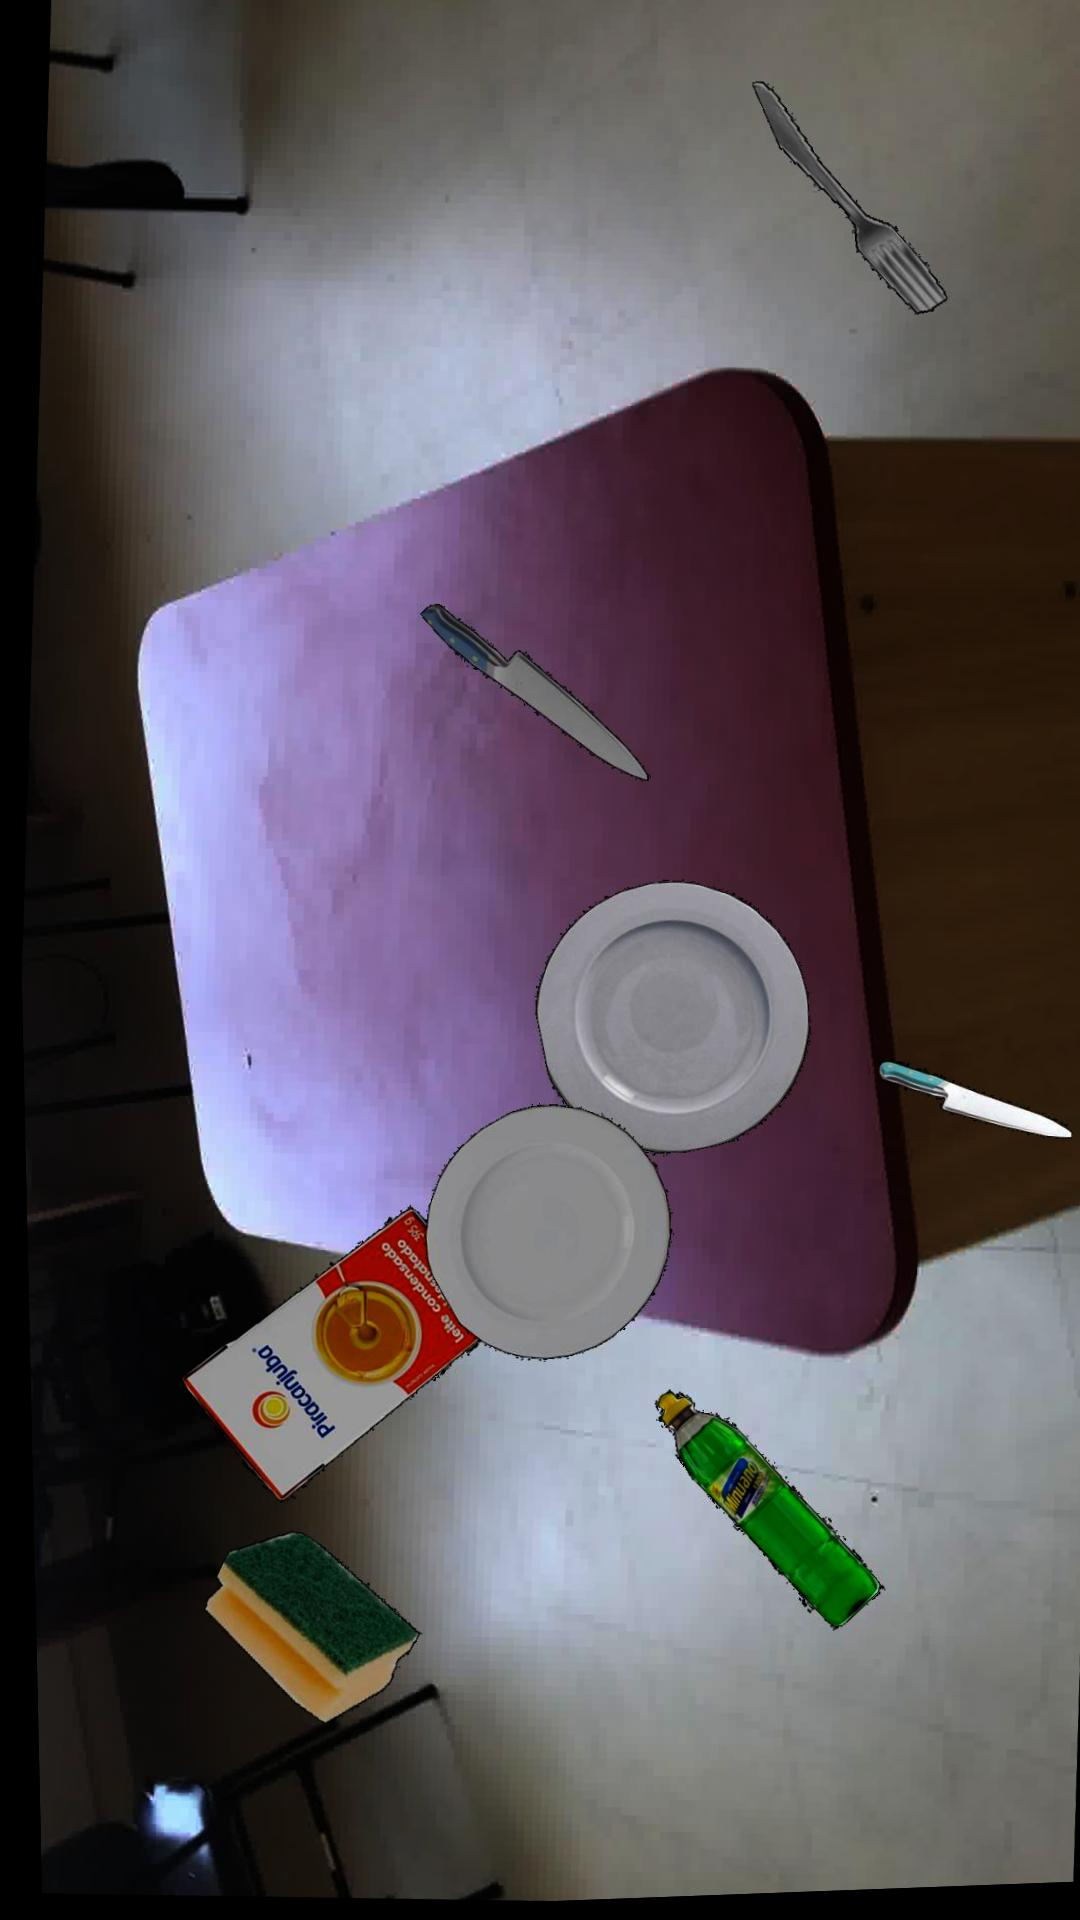cleaner: (650, 1391, 877, 1631)
fork: (752, 84, 945, 319)
knife: (418, 605, 645, 783), (874, 1064, 1068, 1143)
plate: (530, 884, 806, 1155), (419, 1106, 666, 1361)
sponge: (196, 1530, 413, 1724)
